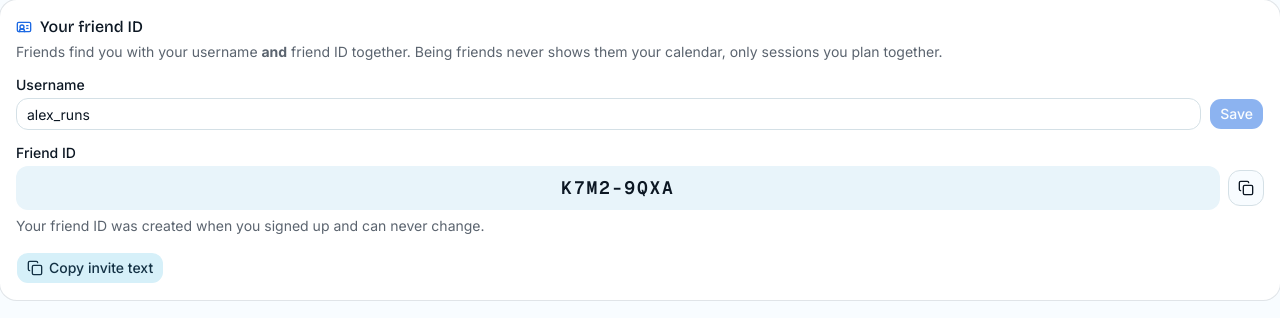
Test: MyFriendIdCard › only enables Save once the username has changed
Expected: the button "Save" is disabled, [1209,98,1264,130]
Type "2" into the field labelled "Username" at (609, 114), box [16,98,1201,130]
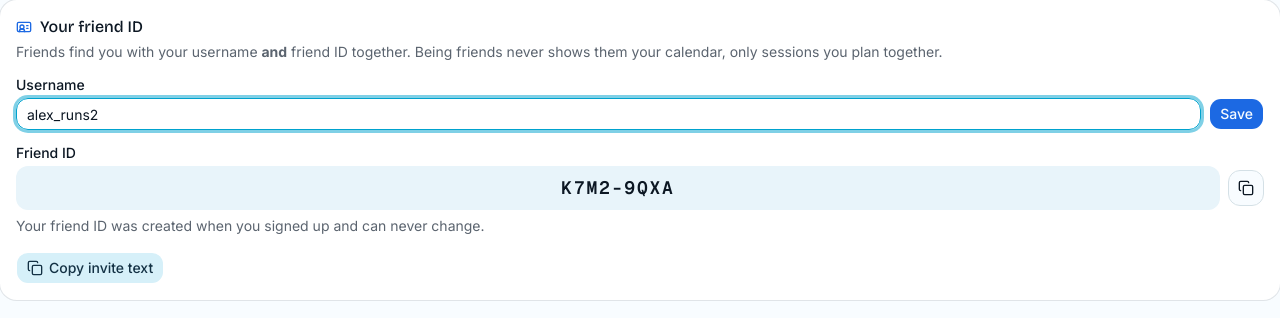
Expected: the button "Save" is enabled, [1209,98,1264,130]
